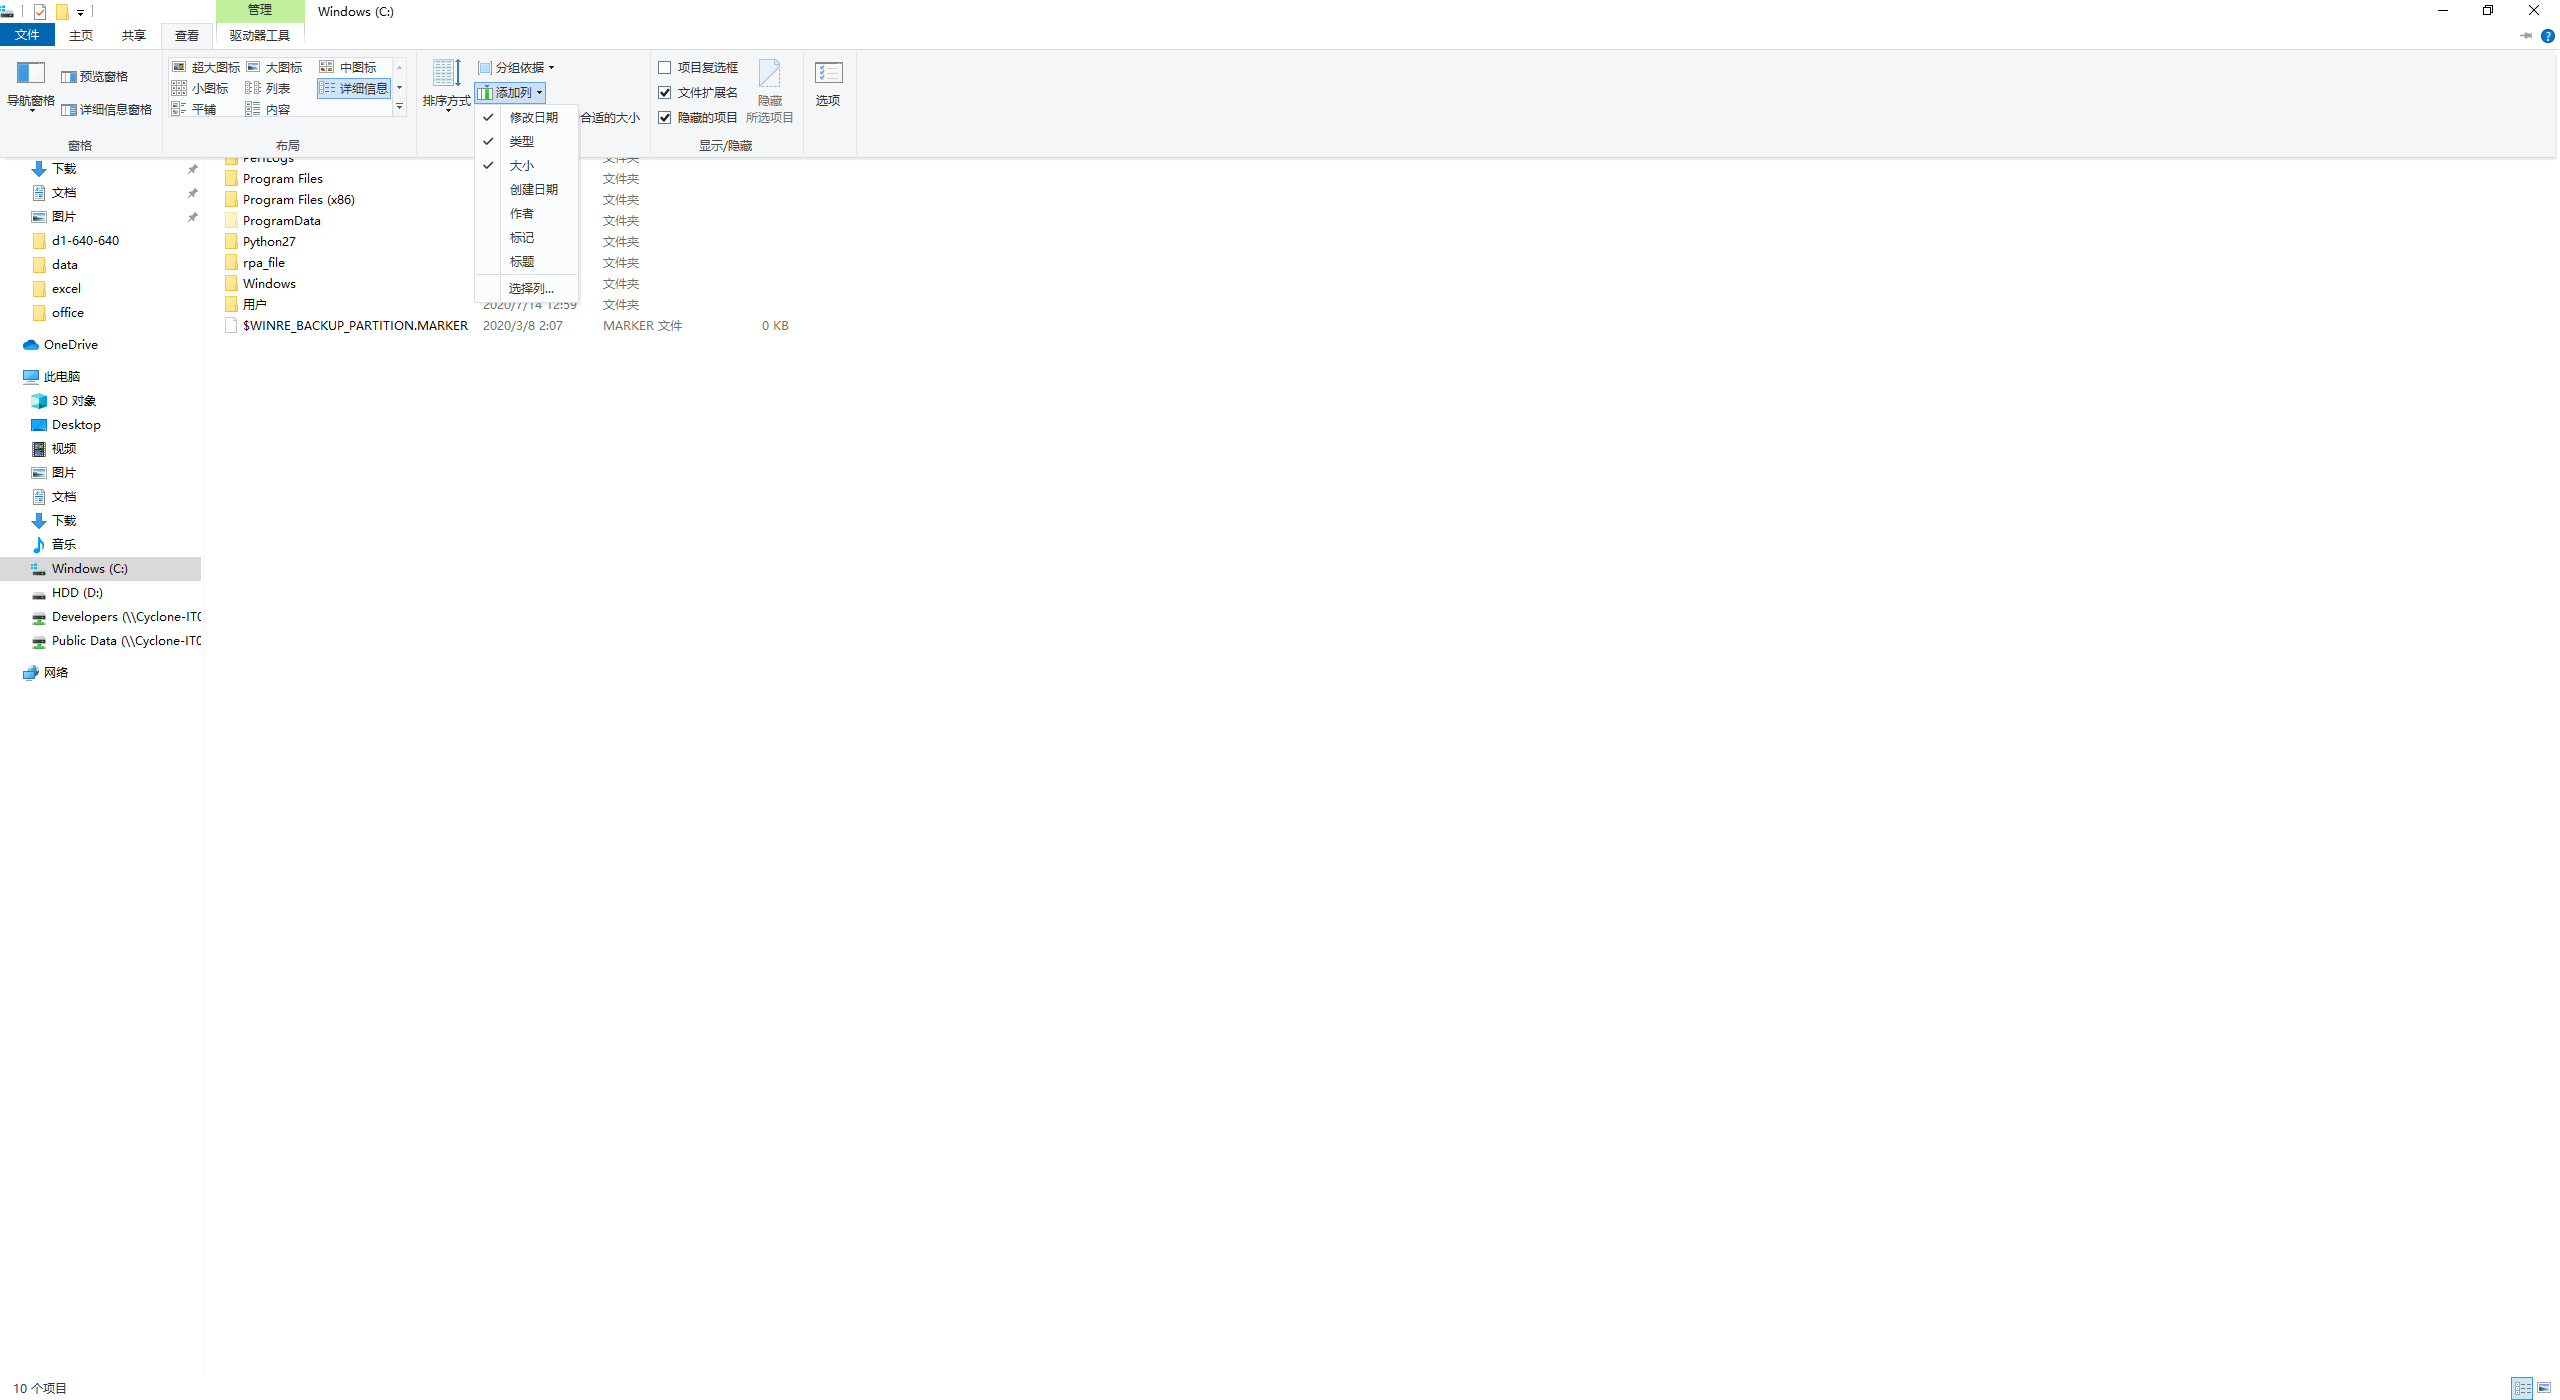character: (245, 317, 469, 331), (52, 633, 202, 648), (48, 610, 203, 624), (245, 191, 359, 207), (746, 93, 796, 126), (9, 1378, 78, 1398), (317, 3, 396, 21), (483, 317, 565, 333), (602, 317, 684, 333), (696, 134, 757, 155), (78, 102, 155, 117), (243, 172, 329, 186), (677, 84, 740, 103), (52, 562, 128, 578), (245, 214, 328, 228), (226, 28, 291, 45), (679, 59, 741, 76), (43, 334, 102, 352), (579, 109, 641, 124), (48, 233, 117, 247), (507, 279, 555, 298), (677, 109, 736, 124), (510, 179, 560, 197), (243, 276, 305, 290), (340, 79, 388, 97), (495, 59, 543, 76), (245, 236, 314, 248), (53, 586, 107, 602), (52, 417, 103, 433), (50, 391, 98, 407), (598, 234, 652, 248), (598, 297, 652, 310), (243, 257, 297, 271), (600, 255, 646, 271), (509, 110, 560, 124), (191, 60, 241, 74), (600, 276, 650, 290), (79, 71, 128, 84), (45, 367, 83, 384), (598, 171, 645, 184), (505, 231, 541, 248), (602, 214, 646, 228), (10, 91, 53, 105), (498, 84, 533, 102), (48, 183, 79, 202), (52, 305, 90, 321), (603, 193, 645, 207), (507, 157, 540, 174), (422, 93, 469, 105), (66, 136, 97, 153), (814, 91, 845, 109), (265, 60, 303, 74), (191, 81, 229, 95), (52, 281, 84, 297), (509, 253, 538, 271), (338, 60, 379, 72), (14, 28, 45, 43), (510, 133, 541, 148), (245, 3, 279, 17), (167, 28, 202, 41), (53, 207, 78, 226), (67, 28, 97, 43), (119, 28, 148, 43), (509, 207, 541, 221), (50, 441, 83, 455), (760, 317, 793, 331), (272, 138, 303, 152), (52, 257, 79, 272), (52, 514, 83, 528), (52, 538, 79, 553), (41, 666, 72, 679), (265, 79, 291, 95), (191, 102, 217, 117), (243, 295, 269, 310), (50, 466, 76, 479), (53, 160, 79, 174), (52, 491, 79, 503), (267, 103, 291, 116)
icon: (429, 55, 460, 86), (757, 55, 784, 90), (812, 59, 845, 84), (16, 59, 47, 84), (2510, 1378, 2531, 1398), (22, 367, 40, 386), (317, 79, 336, 97), (474, 83, 491, 102), (29, 391, 47, 409), (29, 231, 47, 248), (29, 303, 47, 321), (53, 3, 71, 21), (222, 316, 240, 333), (222, 210, 240, 228), (222, 253, 240, 271), (29, 160, 47, 178), (222, 190, 240, 207), (222, 169, 240, 186), (60, 67, 78, 84), (169, 98, 186, 116), (29, 488, 47, 505), (29, 512, 47, 529), (29, 209, 47, 224), (222, 274, 240, 290), (31, 184, 47, 202), (31, 255, 47, 272), (31, 279, 47, 297), (171, 79, 186, 97), (478, 59, 493, 76), (657, 59, 672, 76), (2526, 2, 2543, 17), (31, 440, 47, 457), (22, 664, 40, 679), (29, 464, 47, 479), (29, 562, 47, 578), (33, 2, 47, 21), (222, 233, 238, 248), (245, 100, 260, 116), (184, 160, 200, 176), (657, 109, 672, 124), (2539, 28, 2555, 43), (2519, 26, 2534, 41), (224, 295, 238, 312), (317, 59, 334, 72), (22, 336, 40, 350), (60, 102, 78, 116), (245, 79, 262, 93), (29, 417, 47, 431), (31, 536, 45, 553), (533, 83, 545, 102), (245, 59, 260, 72), (171, 59, 186, 72), (224, 153, 240, 167), (657, 84, 672, 98), (479, 109, 495, 122), (479, 133, 495, 147), (2479, 2, 2494, 16), (31, 634, 47, 648), (31, 610, 47, 624), (31, 588, 47, 602), (2536, 1379, 2551, 1393), (72, 5, 86, 19), (2, 3, 14, 19), (186, 209, 198, 222), (481, 159, 495, 171), (2436, 3, 2450, 16), (17, 3, 28, 19), (186, 186, 198, 198), (545, 60, 557, 72), (395, 59, 405, 72), (24, 105, 38, 116), (395, 98, 405, 110), (443, 105, 453, 117), (395, 79, 403, 93)
